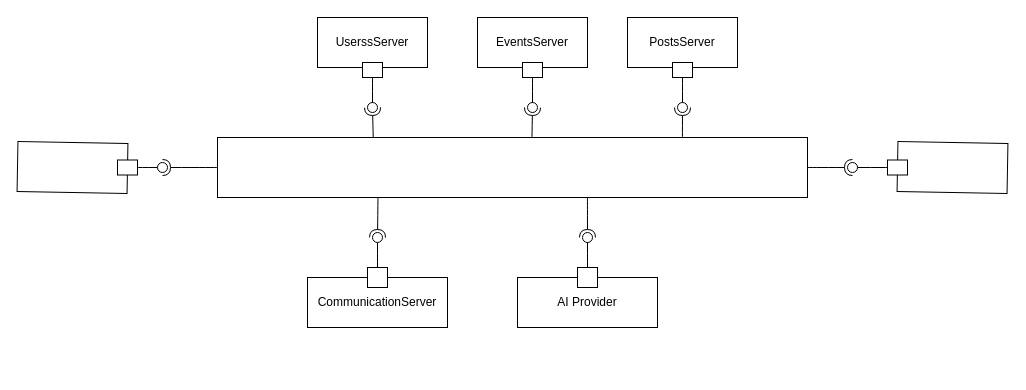
Some shapes in this 1026 by 390 pixel diagram are drawn without their labels. Here are the shapes that lost their labels. From the top down, the box of each, then its label:
(16, 140, 128, 193): Database
(216, 136, 808, 198): MyLinkenIn
(896, 140, 1008, 193): User PC
